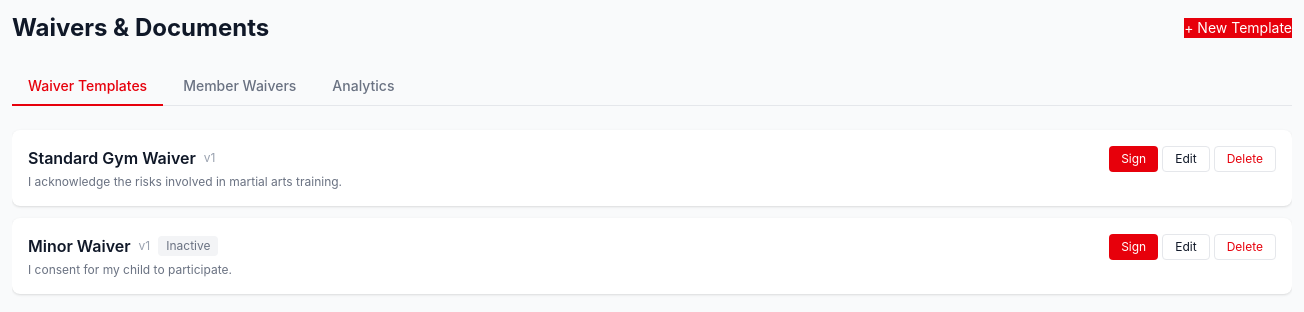
Test: Waivers Page › shows empty waivers message when member has none
Click the tab "Member Waivers" at (240, 87), box [167,68,312,106]
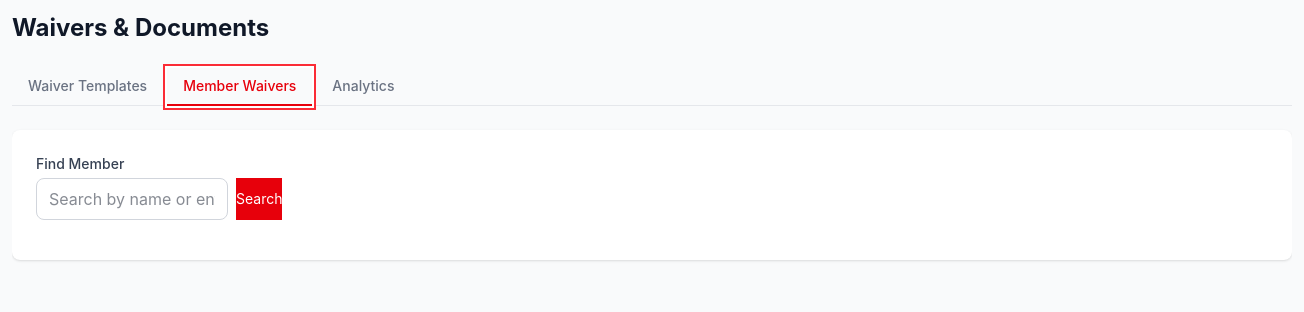
Type "1" into the field named "Search member" at (132, 199), box [36,178,228,220]
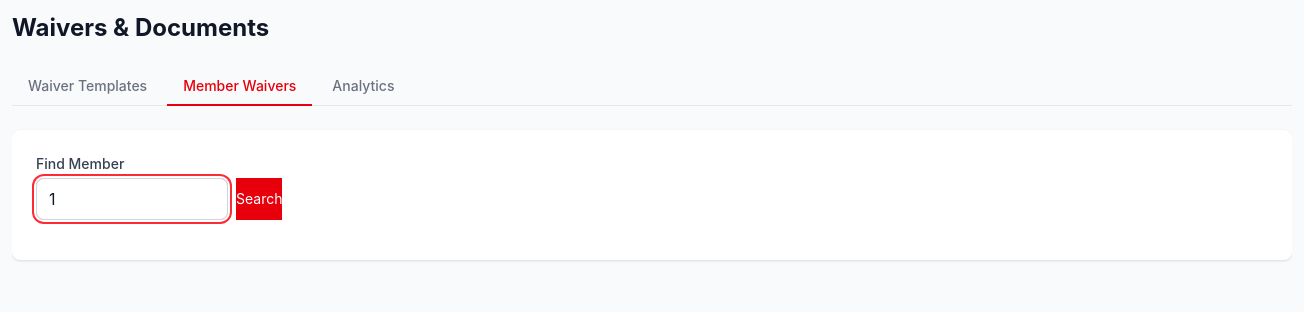
Click the button "Search" at (259, 199), box [236,178,282,220]
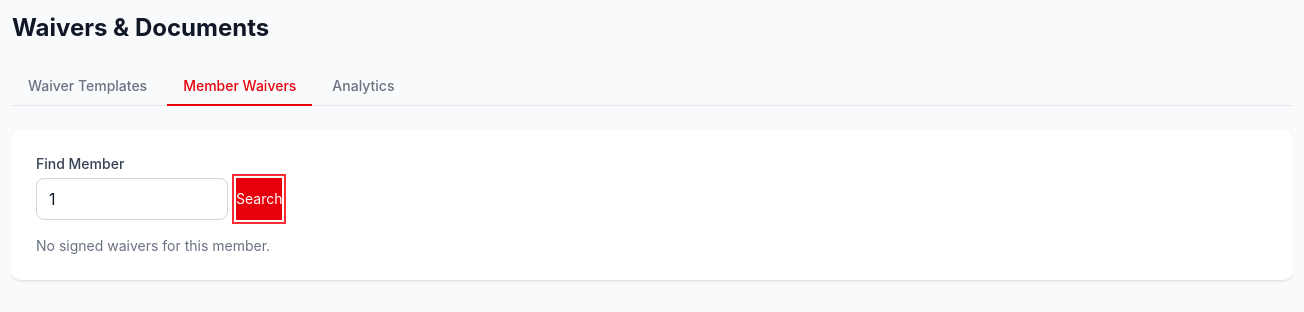
Now the text "No signed waivers for this member." is shown, box [36,237,270,254]
